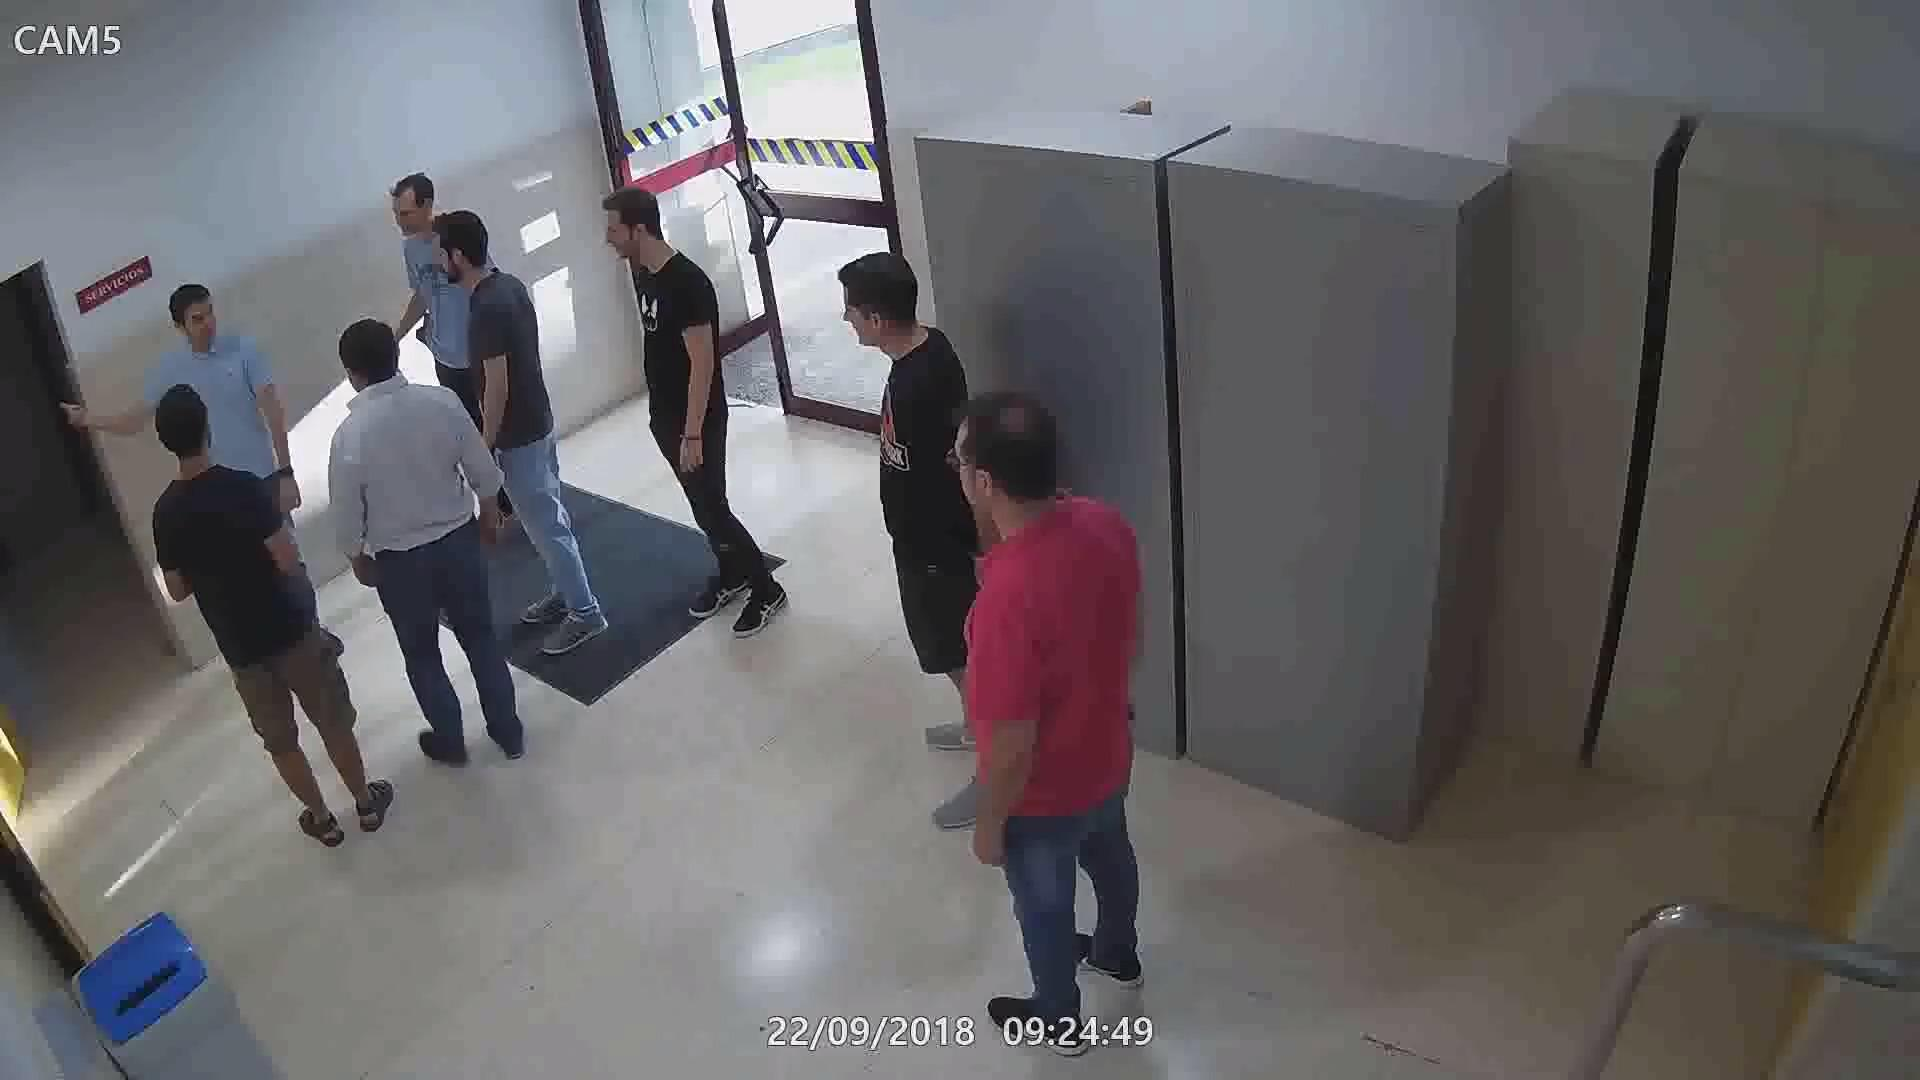Handgun: (413, 306, 434, 344)
